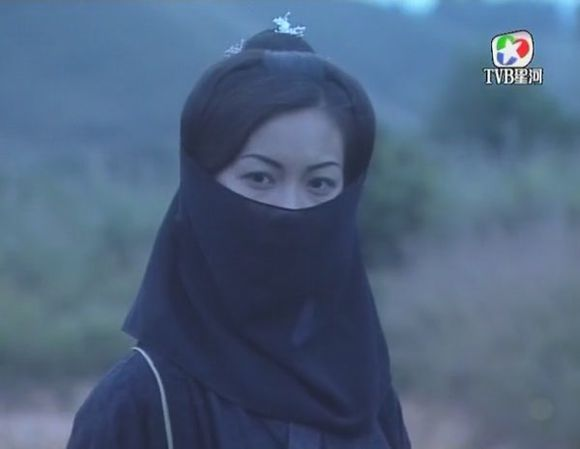face_mask: (221, 111, 350, 284)
